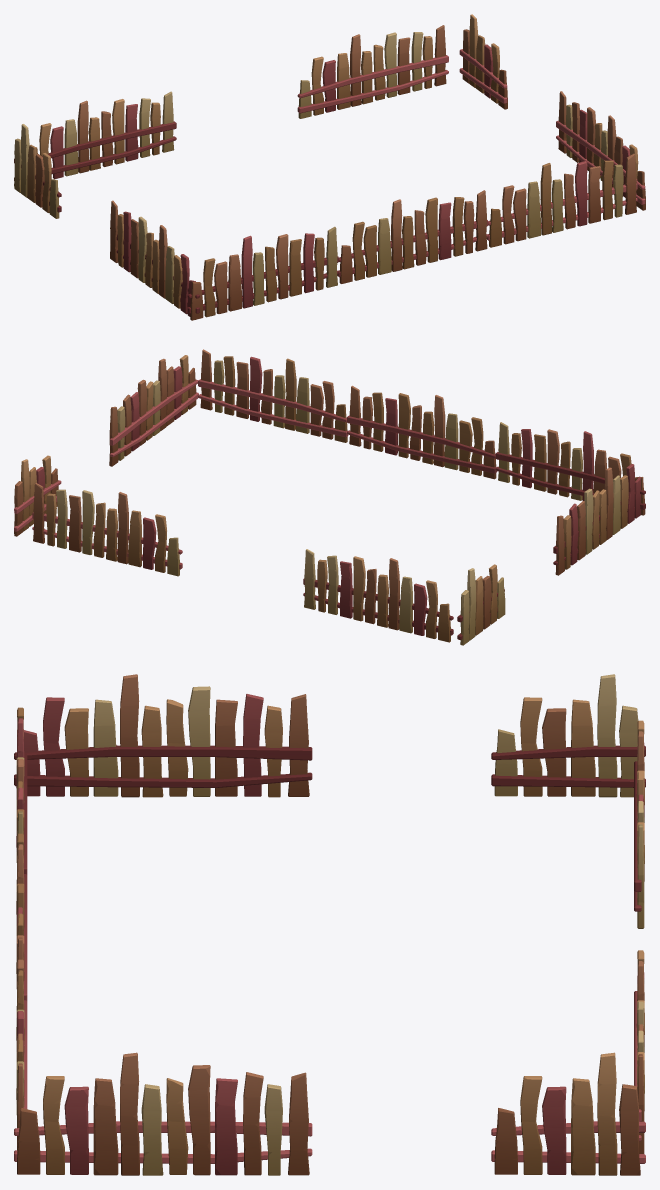
The model's file is Pagar2.fbx.
3 renders of one model, top to bottom at view 1: azimuth 30°, elevation 25°; view 2: azimuth 150°, elevation 25°; view 3: azimuth 270°, elevation 25°, orthographic. The views are drawn at different scales.
Parts seen in each view (by area): view 1: Pagar fix; view 2: Pagar fix; view 3: Pagar fix.
Part boxes in pixels (x1=…): Pagar fix: x1=14, y1=14, x2=645, y2=320; Pagar fix: x1=14, y1=349, x2=645, y2=645; Pagar fix: x1=14, y1=674, x2=645, y2=1175.
Size of the model in its own units: 1278 by 188 by 886.
1 material, 1 textured.
